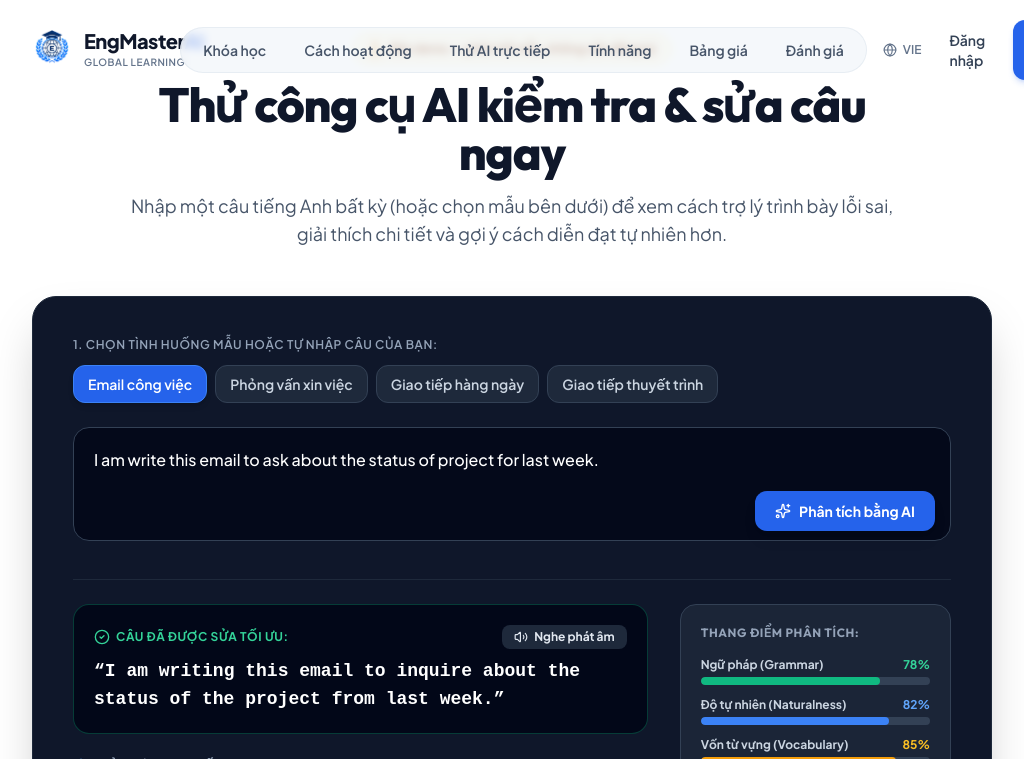
Test case: HomePage — the interactive parts actually respond › swaps the demo analysis when a sample sentence is picked
(page scrolled)
Expected: the text "I am writing this email to inquire" is shown, [94,661,580,709]
Click the button "Giao tiếp hàng ngày": (458, 384) [376,365,539,403]
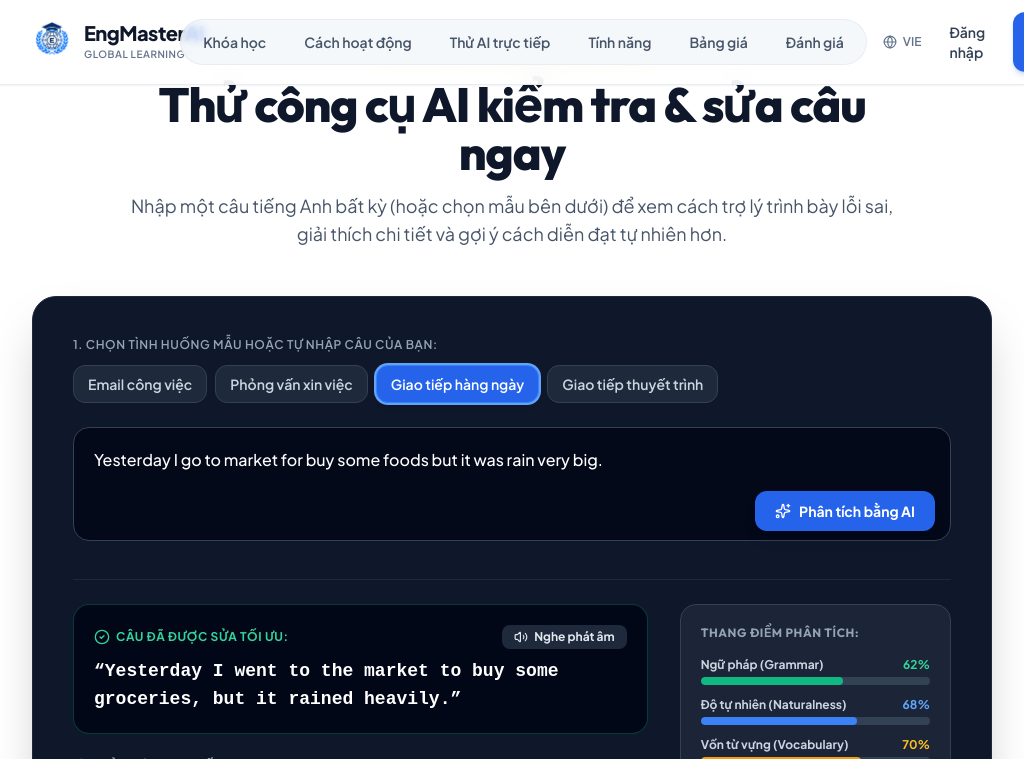
Now the text "Yesterday I went to the market" is shown, box [94,661,558,709]
Now the text "I am writing this email to inquire" is gone
Now the text box named "câu tiếng Anh cần kiểm tra" holds "Yesterday I go to market for buy some foods but it was rain very big.", box [73,427,951,541]
